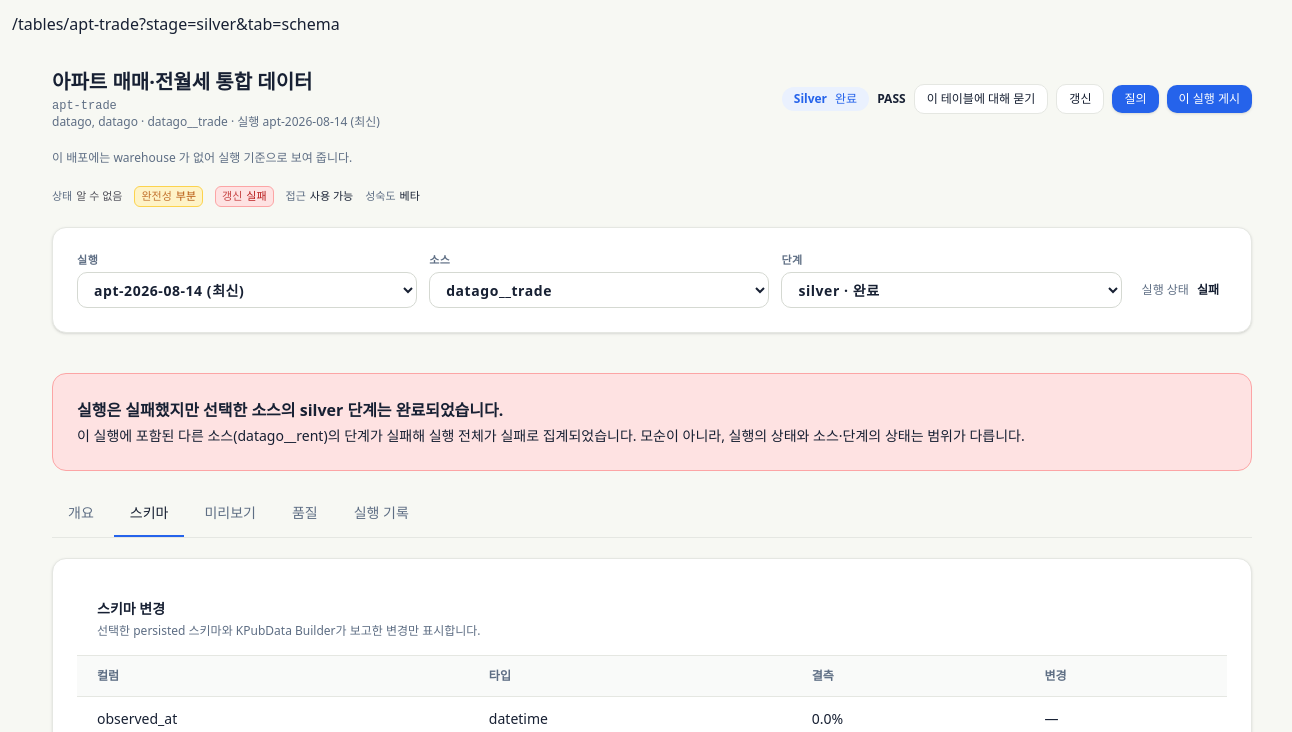
Scenario: Dataset Detail P0 (#253) › updates the stage URL from lineage and applies it to Schema context
Select "bronze · 완료" in the dropdown named "단계 선택" at point(952, 290), box [781, 272, 1122, 308]
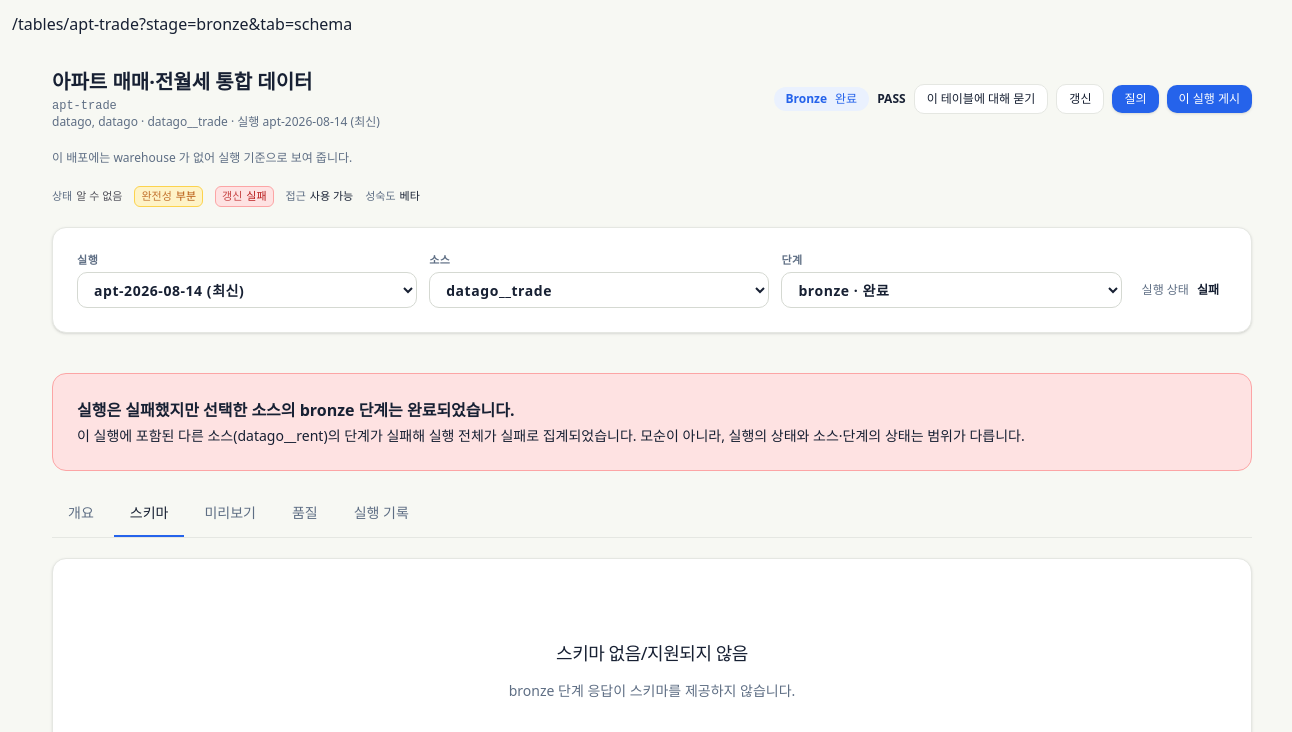
Result: the text with test id "location" shows "stage=bronze" at [139, 13, 352, 35]
Result: the text "스키마 없음/지원되지 않음" is shown at [556, 639, 748, 667]
